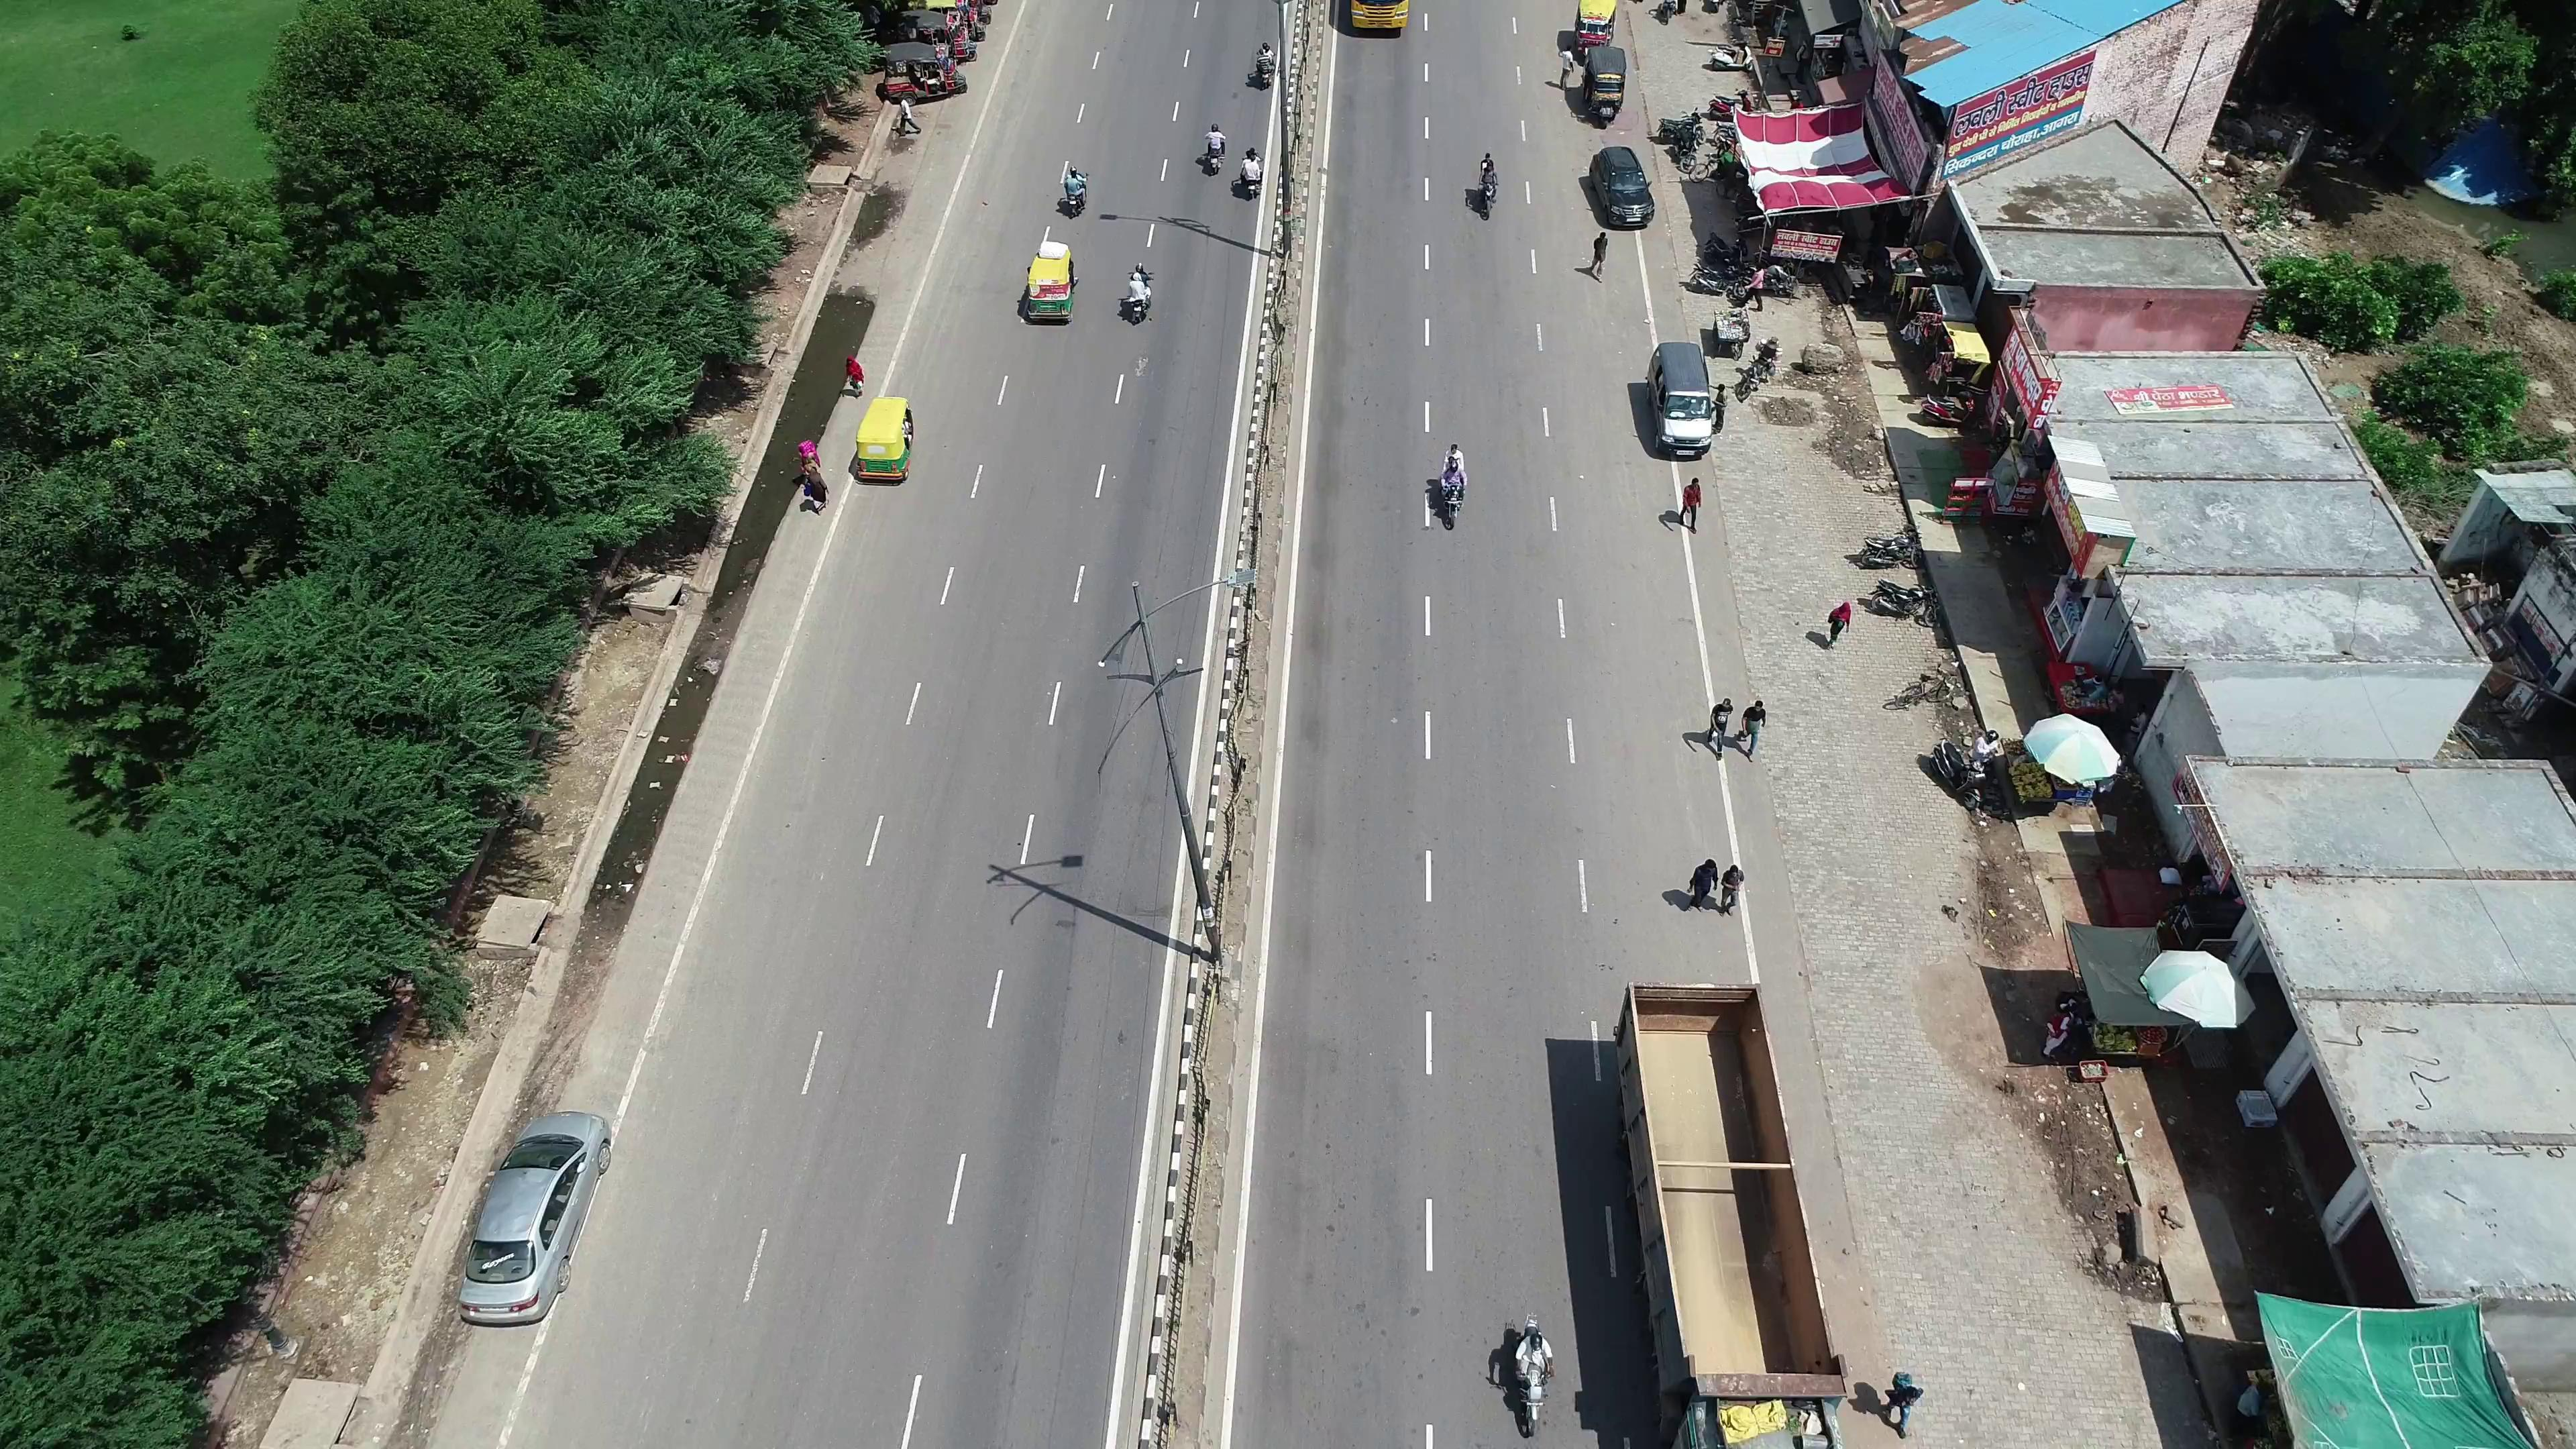Potholes: (1123, 338, 1159, 407)
